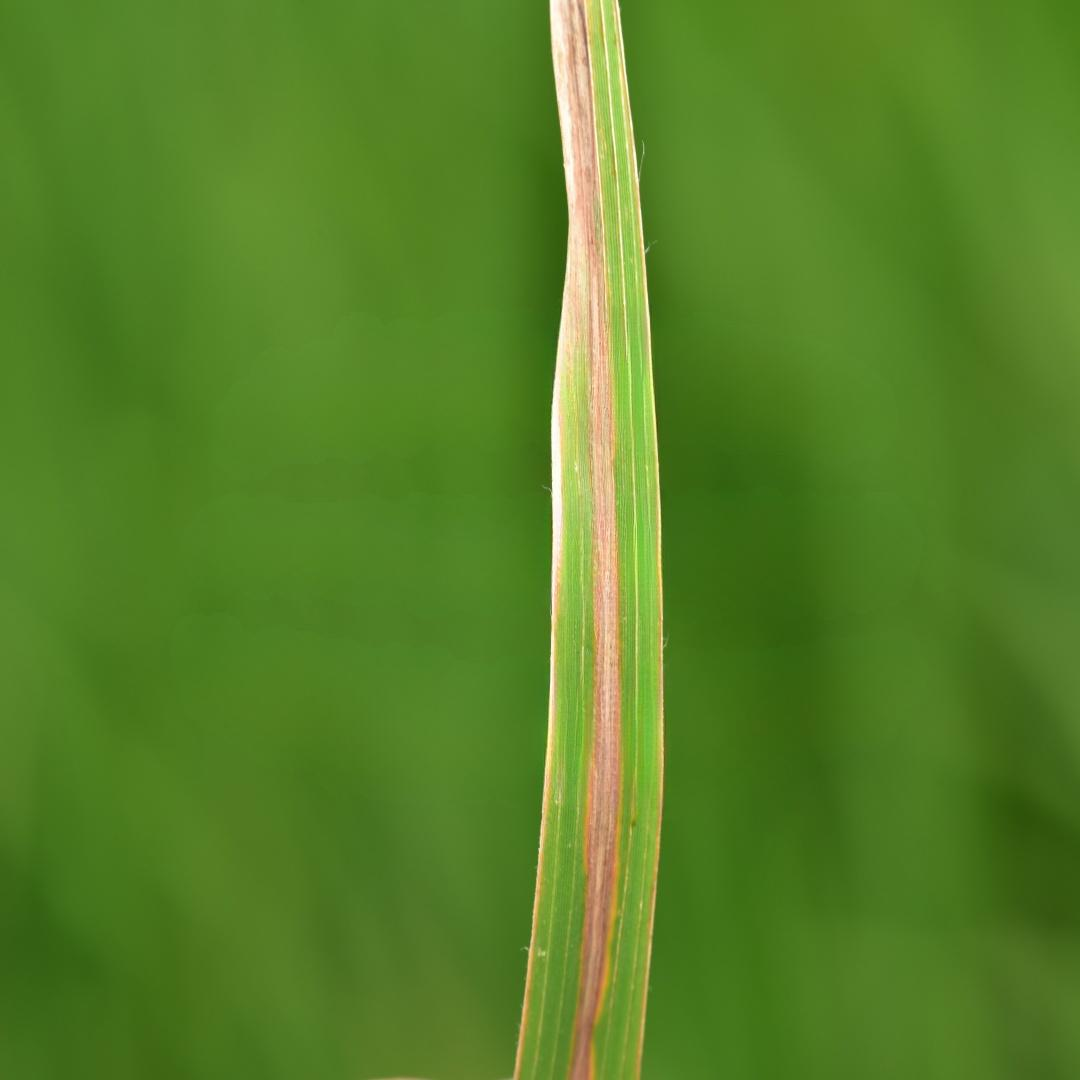BLB: (552, 1, 624, 1078)
LEAF: (513, 0, 664, 1079)
